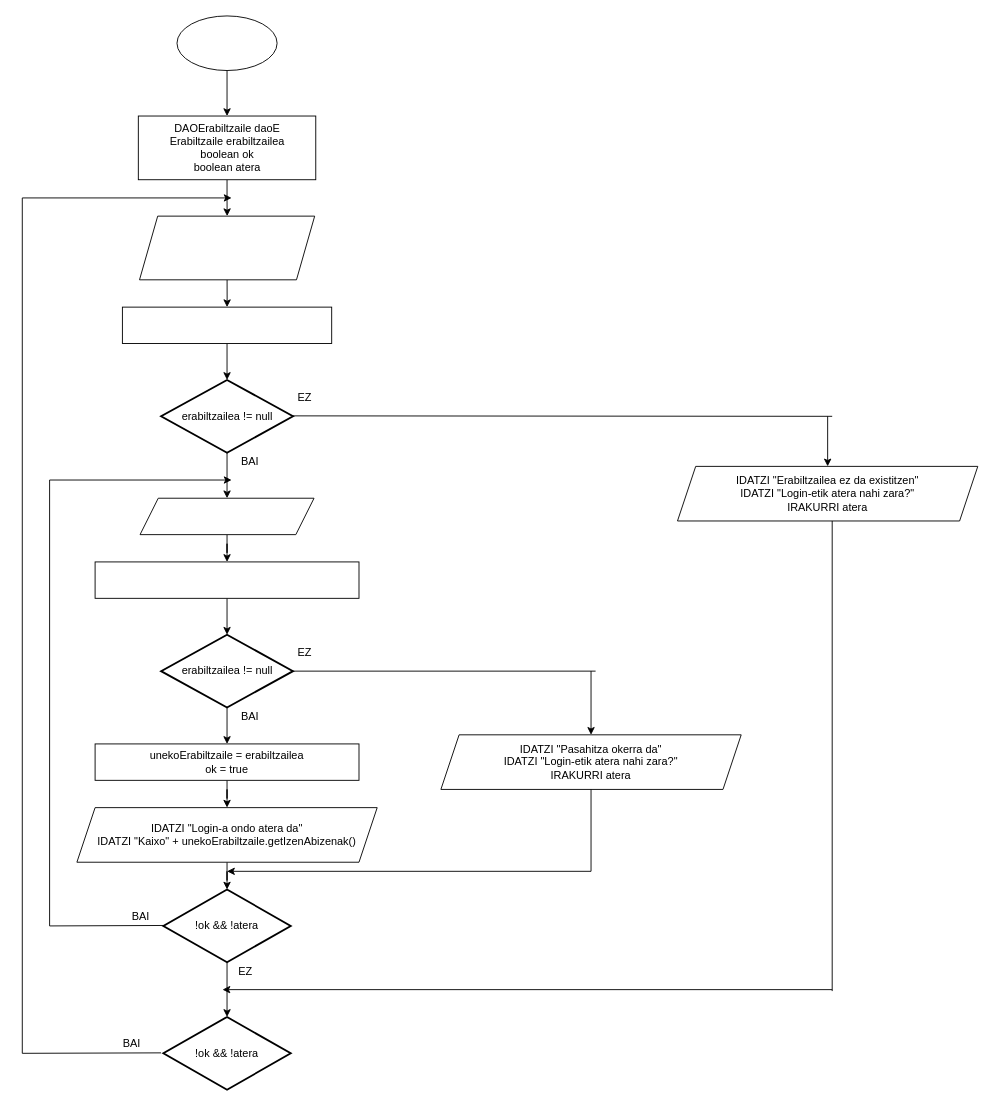
This 994x1107 diagram has some shape labels left out. Each missing label, with the centre of its shape:
erabiltzailea = daoE.getByNan(nanAiz): point (226, 325)
erabiltzailea = daoE.getByNanPass(nanAiz, pasa): point (226, 579)
HASIERA logeatu: point (226, 43)
IDATZI "Sartu NAN/AIZ:" IRAKURRI nanAiz: point (227, 247)
IDATZI "Sartu pasahitza:" IRAKURRI pasa: point (226, 516)
